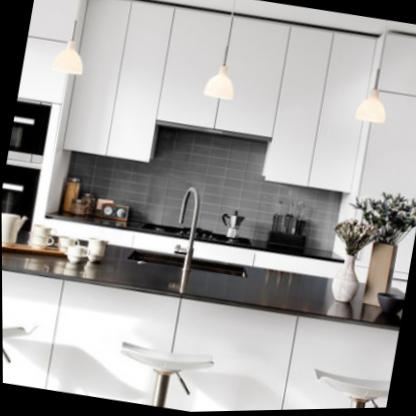Cabinet: (60, 0, 378, 199)
